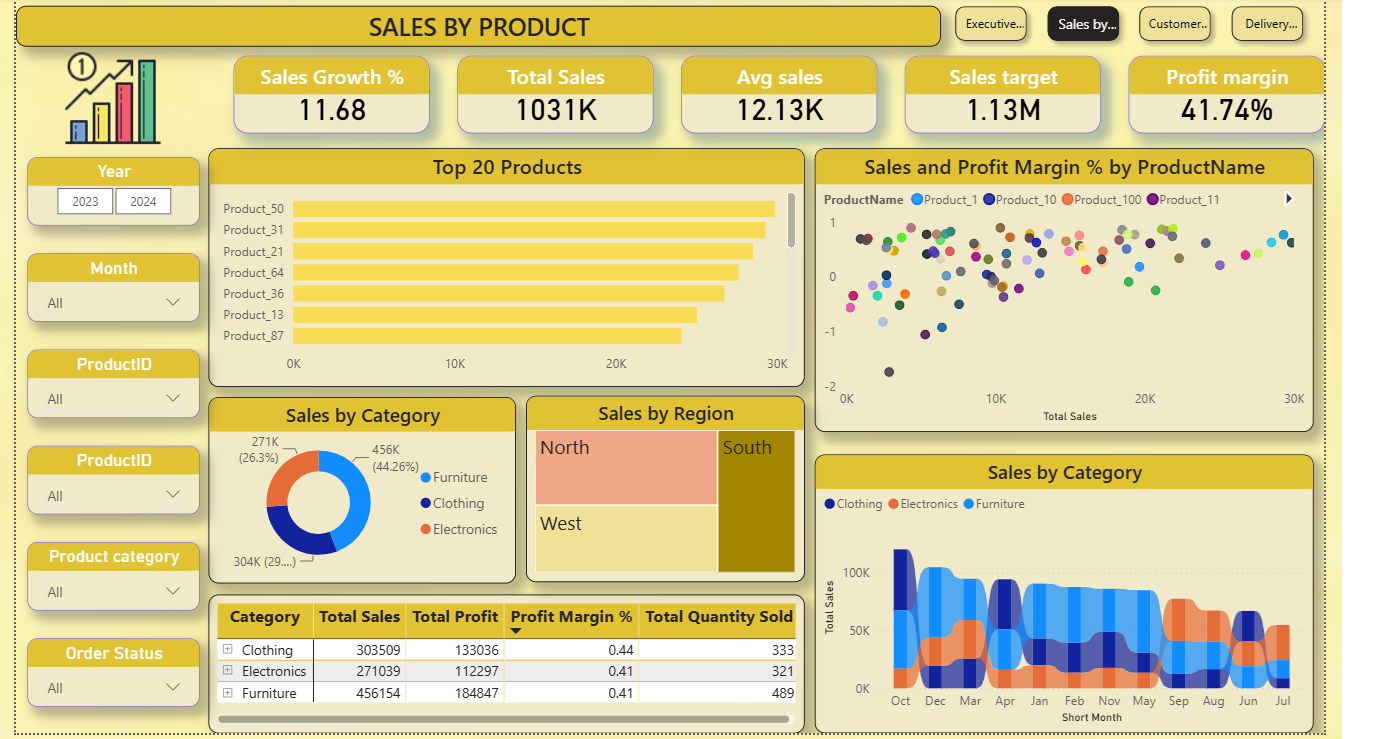

The dashboard page shown, as its layout file describes it:
{"tool":"powerbi","page":{"name":"Sales by product","canvas":[1280,720],"ordinal":1},"visuals":[{"type":"barChart","title":"Top 20 Products","fields":{"Category":["Products.ProductName"],"Y":["Measures Table.Total Sales"]},"box":[188.3,148,583.3,233.6],"z":0},{"type":"donutChart","title":"Sales by Category","fields":{"Category":["Products.Category"],"Y":["Measures Table.Total Sales"]},"box":[188.3,391.3,300.8,182.2],"z":1000},{"type":"scatterChart","title":"Sales and Profit Margin % by ProductName","fields":{"X":["Measures Table.Total Sales"],"Y":["Measures Table.Profit Margin %"],"Series":["Products.ProductName"]},"box":[781.4,148,487.9,277.6],"z":2000},{"type":"pivotTable","fields":{"Rows":["Products.Category","Products.ProductName"],"Values":["Measures Table.Total Sales","Measures Table.Total Profit","Measures Table.Profit Margin %","Measures Table.Total Quantity Sold"]},"box":[188.3,584.5,583.3,135.7],"z":3000},{"type":"treemap","title":"Sales by Region","fields":{"Values":["Measures Table.Total Sales"],"Group":["Sales.Region"]},"box":[498.9,390.1,272.7,182.2],"z":4000},{"type":"ribbonChart","title":"Sales by Category","fields":{"Category":["DateTable.Short Month"],"Series":["Products.Category"],"Y":["Measures Table.Total Sales"]},"box":[781.4,447.6,487.9,272.7],"z":5000},{"type":"textbox","title":"SALES BY PRODUCT","box":[0,8.6,904.9,40.4],"z":6000},{"type":"card","title":"Sales Growth %","fields":{"Values":["Measures Table.Sales Growth %"]},"box":[212.8,57.5,192,75.8],"z":7000},{"type":"card","title":"Total Sales","fields":{"Values":["Measures Table.Total Sales"]},"box":[431.7,57.5,192,75.8],"z":8000},{"type":"card","title":"Avg sales","fields":{"Values":["Measures Table.Avg Sales Per Customer"]},"box":[650.5,57.5,192,75.8],"z":9000},{"type":"card","title":"Sales target","fields":{"Values":["Measures Table.Sales Target"]},"box":[869.4,57.5,192,75.8],"z":10000},{"type":"card","title":"Profit margin ","fields":{"Values":["Measures Table.Profit Margin %"]},"box":[1088,57.5,192,75.8],"z":11000},{"type":"slicer","title":"Year","fields":{"Values":["DateTable.Year"]},"box":[11,156.5,168.8,67.3],"z":12000},{"type":"slicer","title":"Month","fields":{"Values":["DateTable.Month Name"]},"box":[11,250.7,168.8,67.3],"z":13000},{"type":"slicer","title":"ProductID","fields":{"Values":["Sales.ProductID"]},"box":[11,344.8,168.8,67.3],"z":14000},{"type":"slicer","title":"ProductID","fields":{"Values":["Sales.ProductID"]},"box":[11,439,168.8,67.3],"z":15000},{"type":"slicer","title":"Product category","fields":{"Values":["Products.Category"]},"box":[11,533.2,168.8,67.3],"z":16000},{"type":"slicer","title":"Order Status","fields":{"Values":["Sales.OrderStatus"]},"box":[11,627.3,168.8,67.3],"z":17000},{"type":"image","box":[24.5,40.4,140.6,123.5],"z":18000},{"type":"pageNavigator","box":[909.8,0,359.5,52.6],"z":19000}]}

Visuals, with their boxes in screenshot pixels (x1, y1, x2, y2):
"Top 20 Products" barChart: (x1=212, y1=142, x2=801, y2=378)
"Sales by Category" donutChart: (x1=212, y1=388, x2=516, y2=572)
"Sales and Profit Margin % by ProductName" scatterChart: (x1=811, y1=142, x2=1304, y2=423)
pivotTable - Products.Category x Products.ProductName: (x1=212, y1=583, x2=801, y2=720)
"Sales by Region" treemap: (x1=526, y1=387, x2=801, y2=571)
"Sales by Category" ribbonChart: (x1=811, y1=445, x2=1304, y2=721)
"SALES BY PRODUCT" textbox: (x1=21, y1=2, x2=936, y2=42)
"Sales Growth %" card: (x1=236, y1=51, x2=430, y2=128)
"Total Sales" card: (x1=458, y1=51, x2=652, y2=128)
"Avg sales" card: (x1=679, y1=51, x2=873, y2=128)
"Sales target" card: (x1=900, y1=51, x2=1094, y2=128)
"Profit margin " card: (x1=1121, y1=51, x2=1315, y2=128)
"Year" slicer: (x1=33, y1=151, x2=203, y2=219)
"Month" slicer: (x1=33, y1=246, x2=203, y2=314)
"ProductID" slicer: (x1=33, y1=341, x2=203, y2=409)
"ProductID" slicer: (x1=33, y1=436, x2=203, y2=504)
"Product category" slicer: (x1=33, y1=532, x2=203, y2=600)
"Order Status" slicer: (x1=33, y1=627, x2=203, y2=695)
image: (x1=46, y1=34, x2=188, y2=158)
pageNavigator: (x1=941, y1=0, x2=1304, y2=46)
